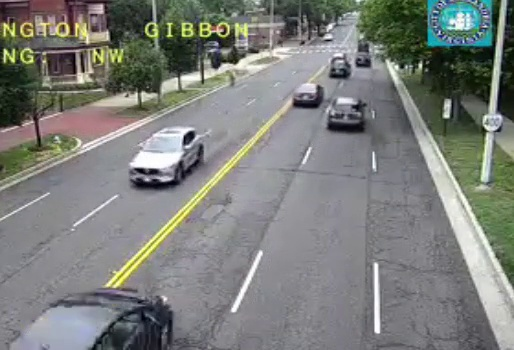car: (327, 97, 363, 127), (293, 83, 321, 106), (329, 61, 348, 78)
